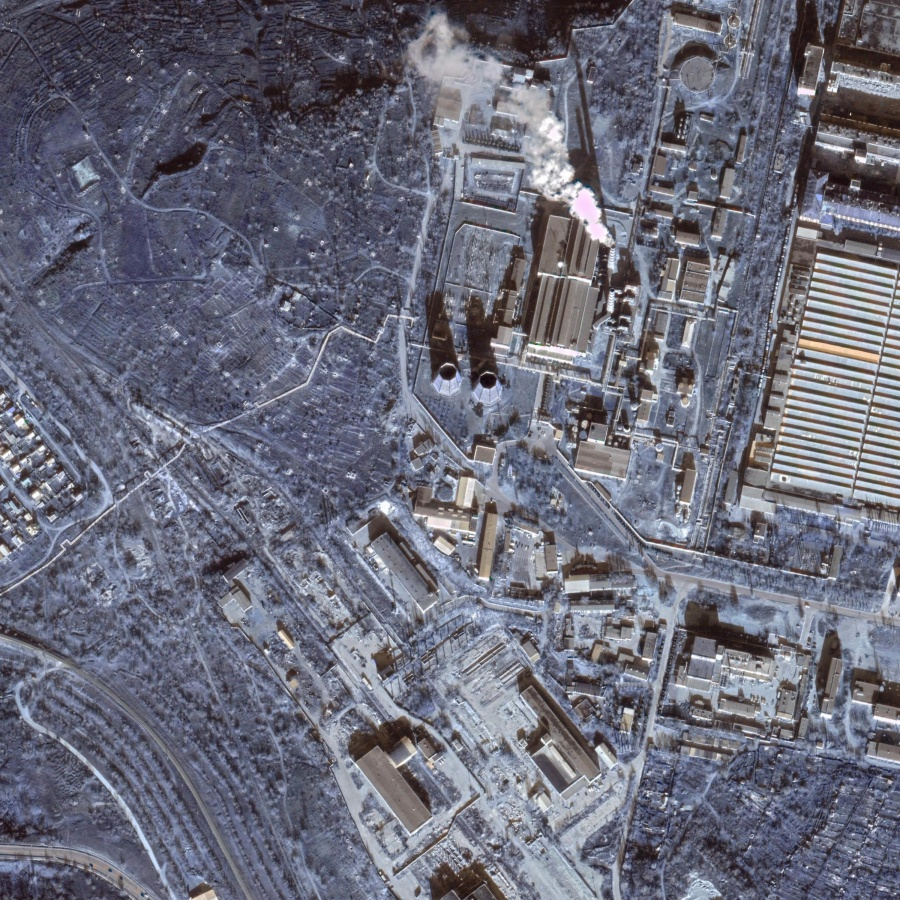PowerPlant: (419, 156, 642, 417)
